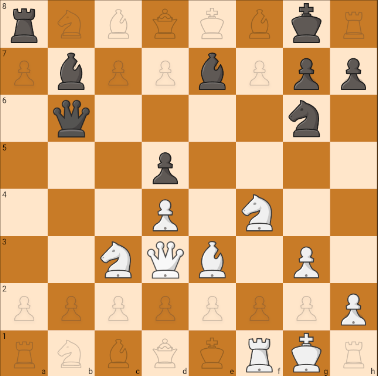bb: (189, 48, 236, 95), (48, 48, 94, 94)
bk: (282, 0, 330, 47)
bn: (0, 0, 48, 47), (282, 95, 330, 141)
bp: (283, 47, 330, 95), (331, 47, 378, 94), (142, 141, 188, 188)
bq: (48, 95, 95, 140)
wb: (189, 236, 236, 281)
wk: (283, 331, 329, 374)
wn: (95, 236, 141, 282), (237, 190, 282, 235)
wp: (142, 189, 189, 235), (331, 284, 378, 330), (283, 237, 330, 282)
wq: (141, 236, 188, 282)
wr: (237, 331, 282, 374)
